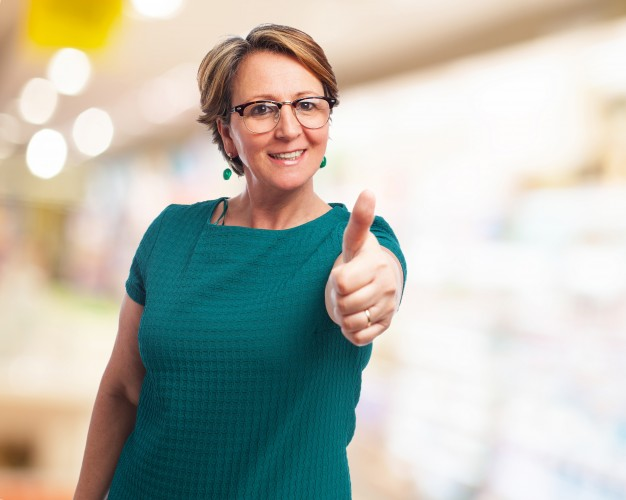thumbsup: (330, 189, 398, 348)
